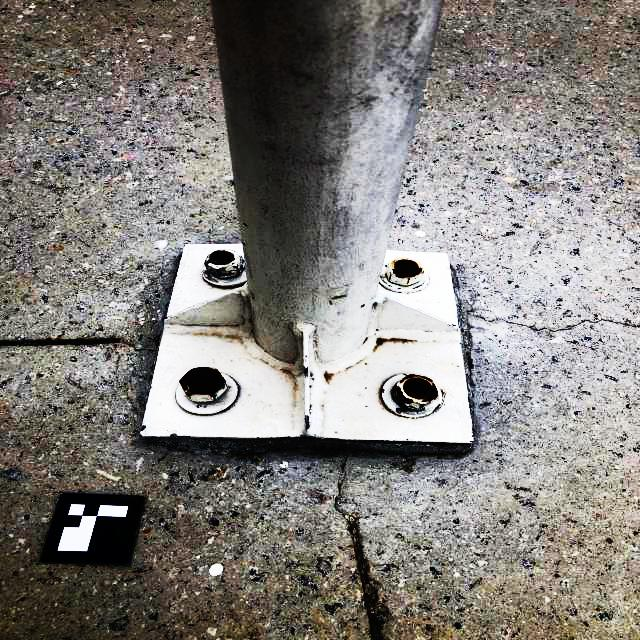Corrosion: (180, 367, 226, 397), (402, 374, 439, 402), (392, 260, 422, 277), (394, 381, 415, 404), (209, 250, 234, 265), (399, 380, 404, 383), (422, 404, 426, 407), (233, 266, 237, 268)
